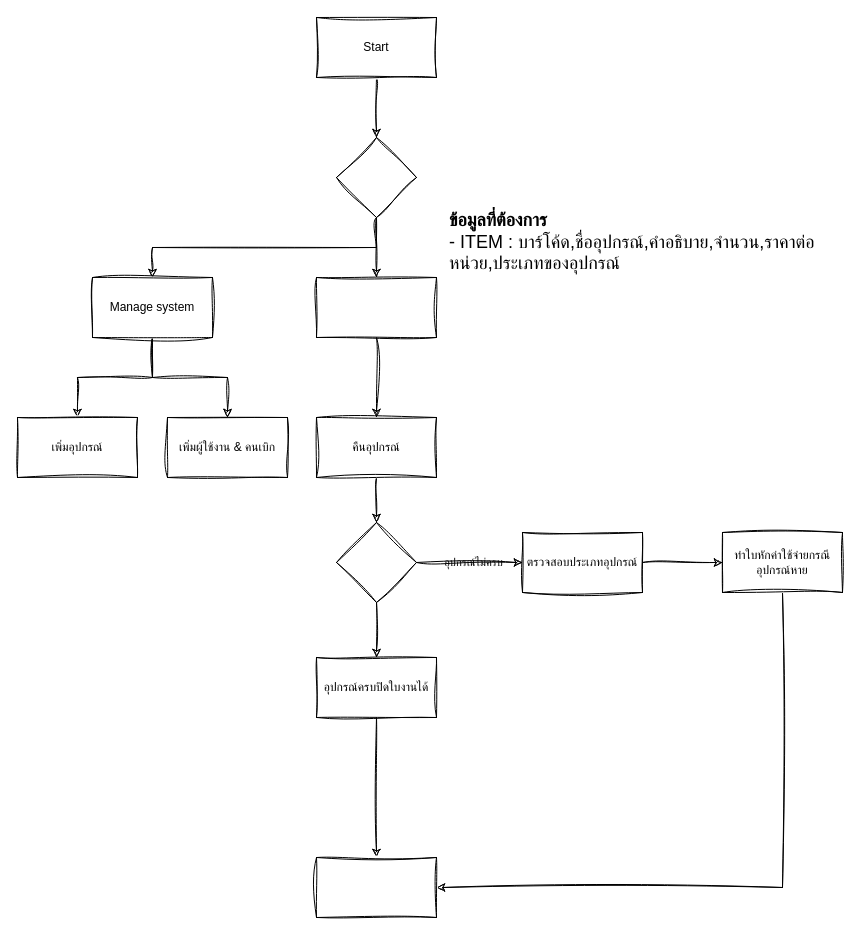
The diagram is 860 pixels wide and 935 high, and some of its shapes have lost their labels. The shapes that lost their labels are listed below. From the top down, each one's box as (x1, y1, x2, y2) in pixels, then its label:
(336, 136, 416, 218): login & role
(316, 276, 436, 338): เบิกอุปกรณ์
(336, 522, 416, 602): ตรวจสอบ
(316, 856, 436, 918): STOP
